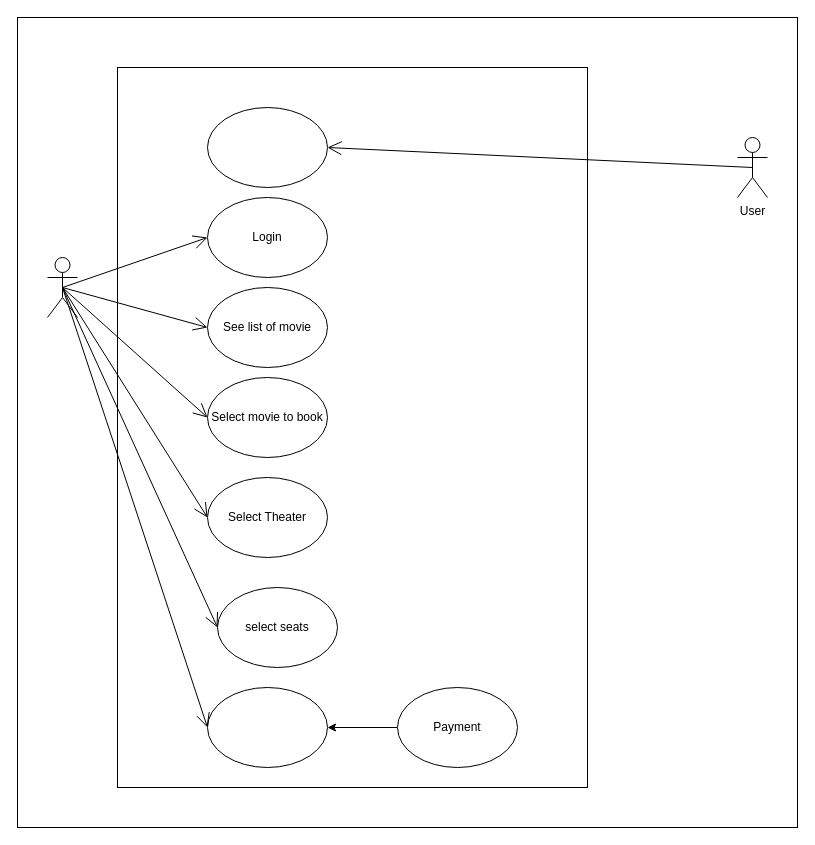
The diagram is 815 pixels wide and 845 high, and some of its shapes have lost their labels. Each missing label, with the centre of its shape:
"book ticket" goes at point 267,727.
"Register" goes at point 267,147.
"Registered User" goes at point 62,287.
